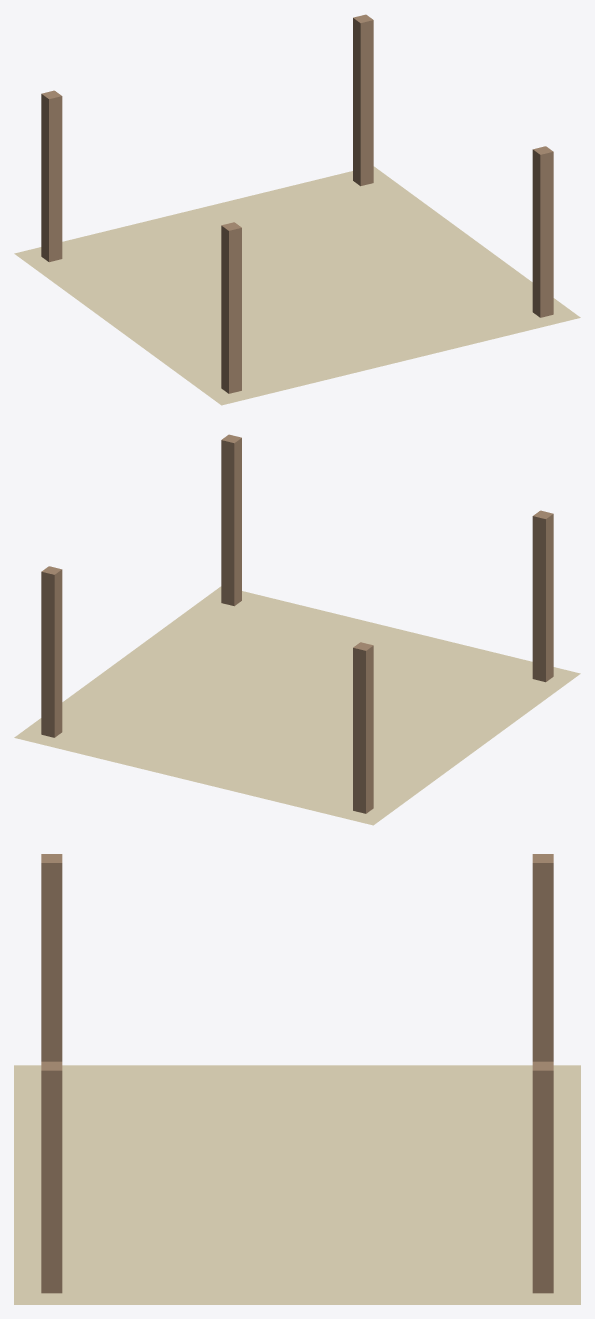
File: chashitsu_v1.glb
The picture shows the model from 3 angles, top to bottom: view 1: azimuth 30°, elevation 25°; view 2: azimuth 150°, elevation 25°; view 3: azimuth 270°, elevation 25°; orthographic projection. The views are drawn at different scales.
Parts seen in each view (by area): view 1: Chashitsu; view 2: Chashitsu; view 3: Chashitsu.
Boxes of the visible parts, bbox=[...] form: Chashitsu: bbox=[14, 14, 580, 405]; Chashitsu: bbox=[14, 434, 580, 825]; Chashitsu: bbox=[14, 854, 580, 1304].
Size of the model in its own units: 6 by 2.6 by 6.
